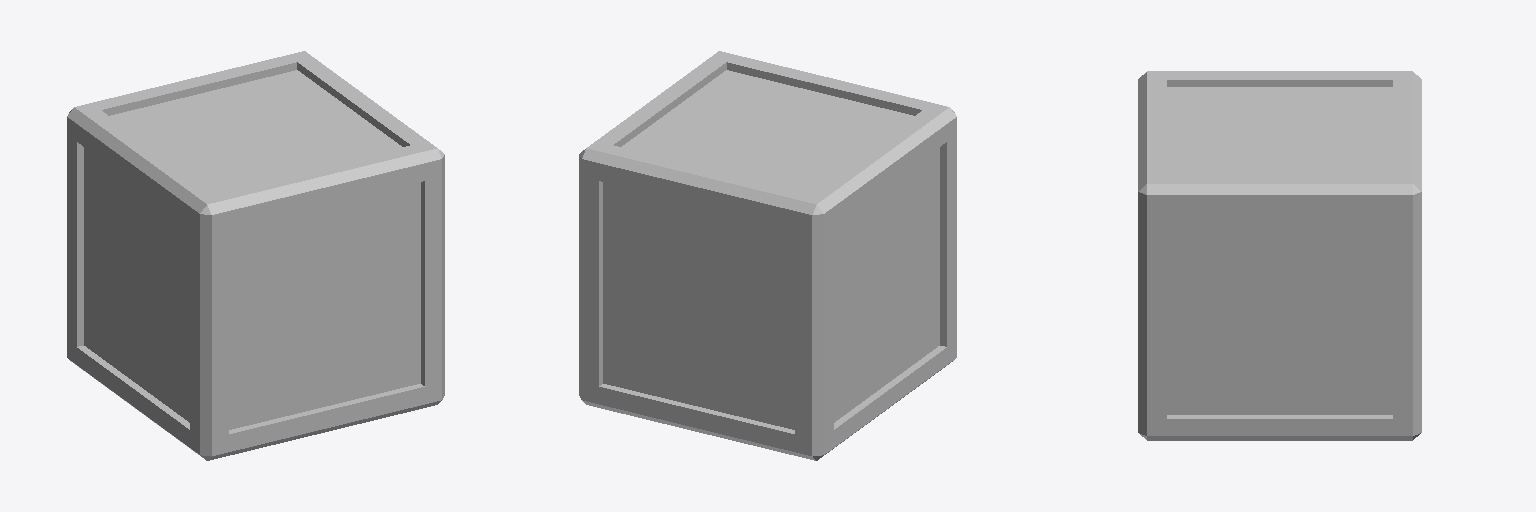
Rendered from crate_3_001.obj.
3 renders of one model, left to right at view 1: azimuth 30°, elevation 25°; view 2: azimuth 150°, elevation 25°; view 3: azimuth 270°, elevation 25°, orthographic.
Parts seen in each view (by area): view 1: cratewA64; view 2: cratewA64; view 3: cratewA64.
Boxes of the visible parts, x1=… form: cratewA64: x1=67, y1=51, x2=444, y2=460; cratewA64: x1=579, y1=51, x2=956, y2=460; cratewA64: x1=1138, y1=71, x2=1421, y2=440.
Bounding box in the file's own units: 1 × 1 × 1.